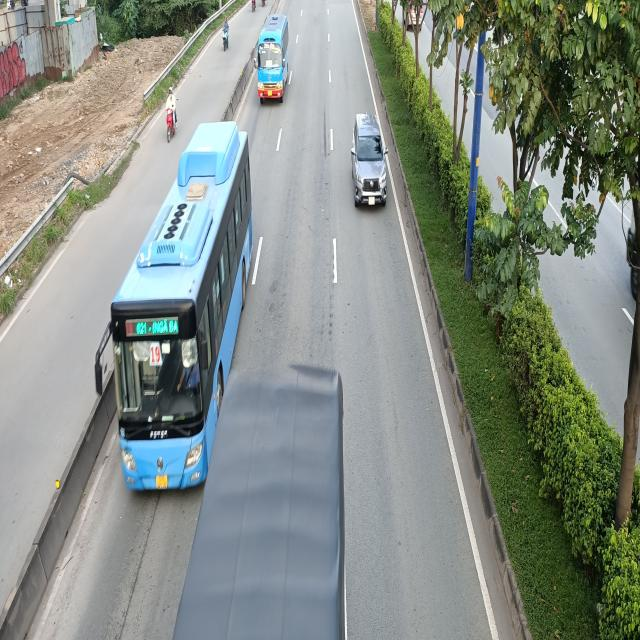car: (350, 114, 388, 209)
coach: (94, 121, 256, 492), (257, 11, 291, 101)
